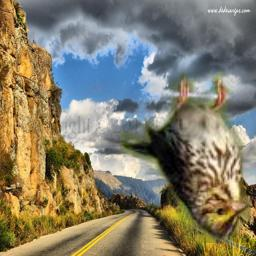Sparrow: (120, 72, 250, 243)
